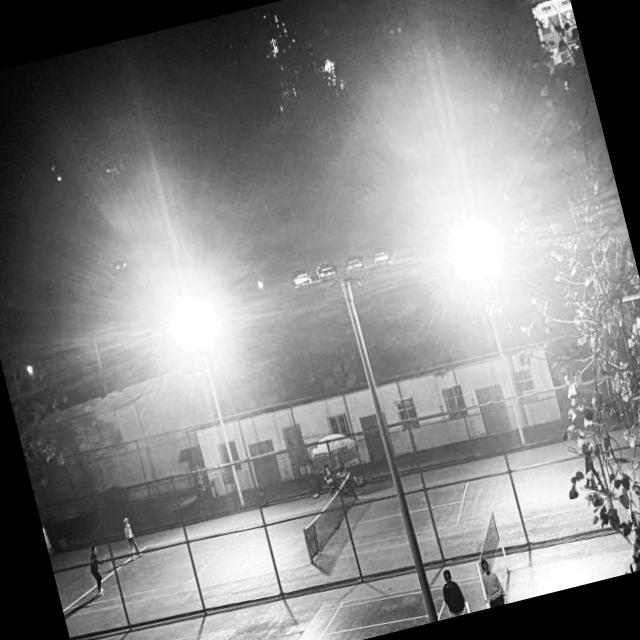Light: (290, 240, 483, 634), (453, 232, 542, 452), (174, 298, 262, 516)
